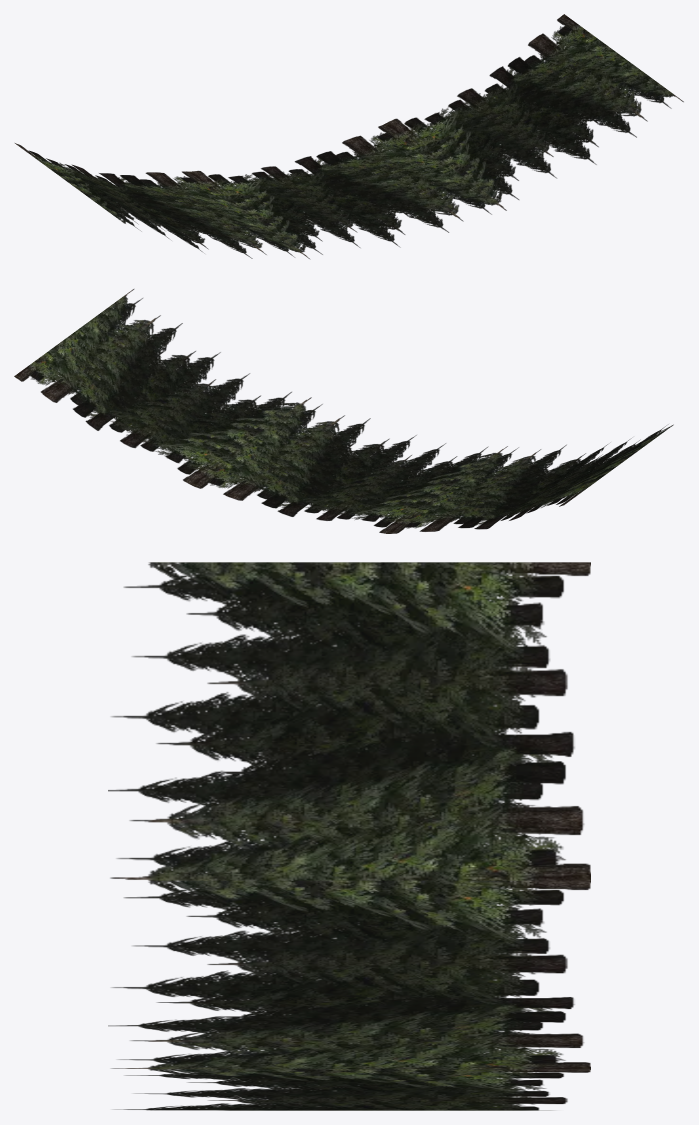
The picture shows the model from 3 angles, top to bottom: view 1: azimuth 30°, elevation 25°; view 2: azimuth 150°, elevation 25°; view 3: azimuth 270°, elevation 25°; orthographic projection. The views are drawn at different scales.
Visible parts, largest first — view 1: model_Object05; view 2: model_Object05; view 3: model_Object05.
Boxes of the visible parts, bbox=[...] form: model_Object05: bbox=[15, 14, 683, 258]; model_Object05: bbox=[14, 289, 673, 533]; model_Object05: bbox=[108, 562, 590, 1110].
Bounding box in the file's own units: 15.37 × 2.22 × 5.84.
Materials: 1 (1 with a texture image).
